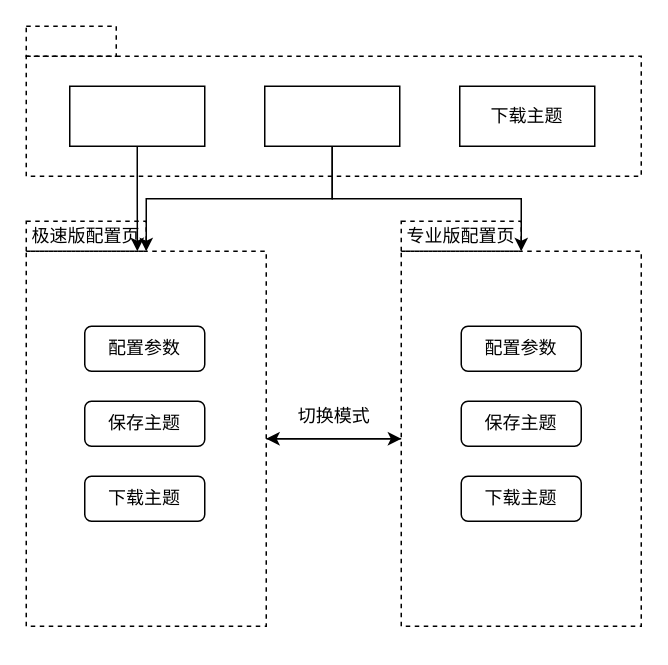
This 668x665 diagram has some shape labels left out. Each missing label, with the box of its shape:
新建主题: (68, 85, 205, 146)
管理页: (25, 25, 116, 56)
编辑主题: (263, 85, 400, 146)
